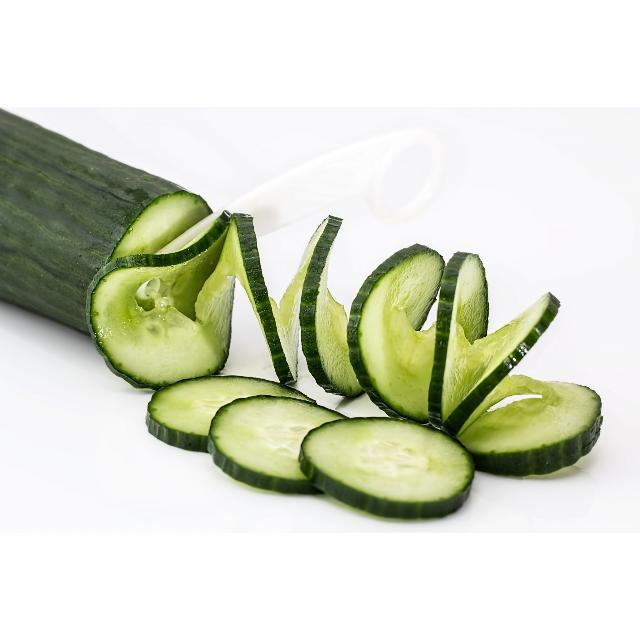cucumber: (162, 199, 592, 495)
